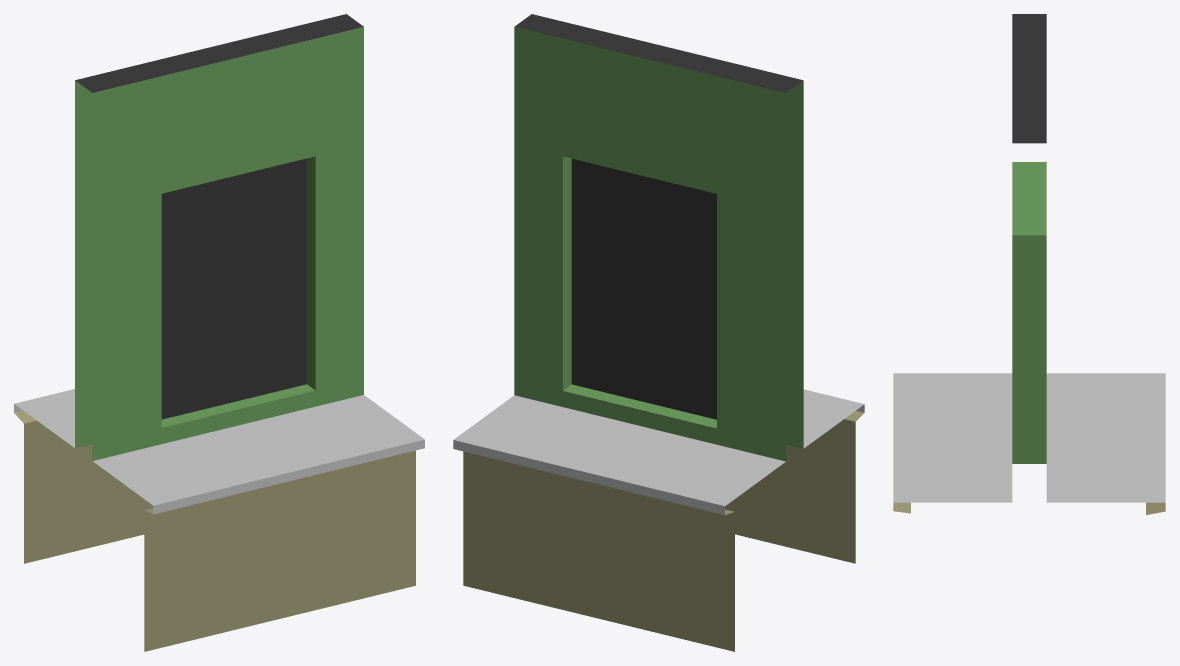
The model's file is SM_Window_Negotiation_180.FBX.
3 renders of one model, left to right at view 1: azimuth 30°, elevation 25°; view 2: azimuth 150°, elevation 25°; view 3: azimuth 270°, elevation 25°, orthographic. The views are drawn at different scales.
Visible parts, largest first — view 1: SM_Window_Negotiation_180; view 2: SM_Window_Negotiation_180; view 3: SM_Window_Negotiation_180.
Boxes of the visible parts, x1,y1,x2,y2 form: SM_Window_Negotiation_180: (14,14,424,651); SM_Window_Negotiation_180: (453,14,864,651); SM_Window_Negotiation_180: (893,14,1165,514).
Bounding box in the file's own units: 180 × 160 × 330.
